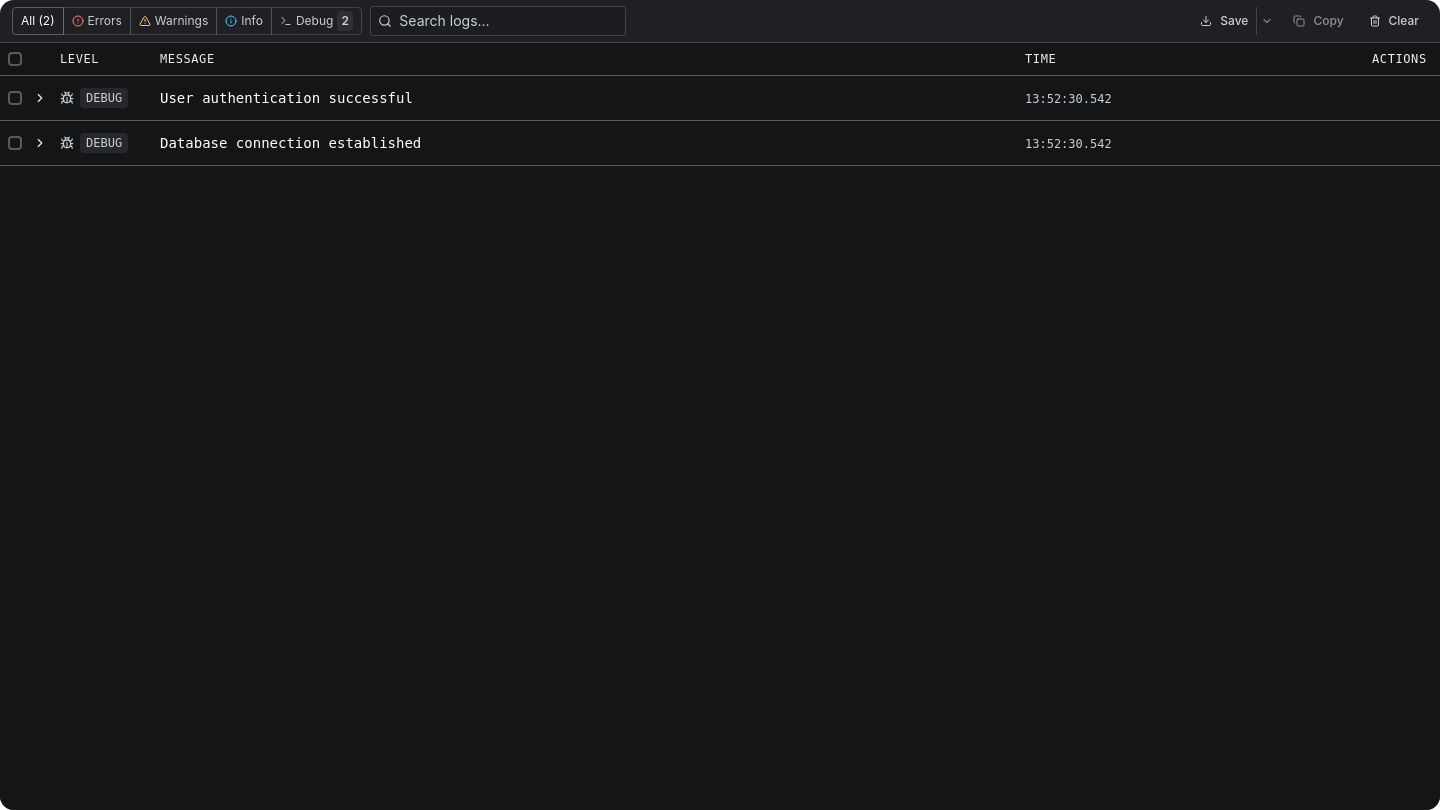
Scenario: ConsolePanel › filters logs by full-text search in message
This screenshot has width=1440, height=810.
expect the row with test id "console-log-row-auth-log" is shown: met, box [0,76,1439,120]
# Search by message text
Type "authentication" into the field with test id "console-search-input" at (498, 21), box [370,6,626,36]
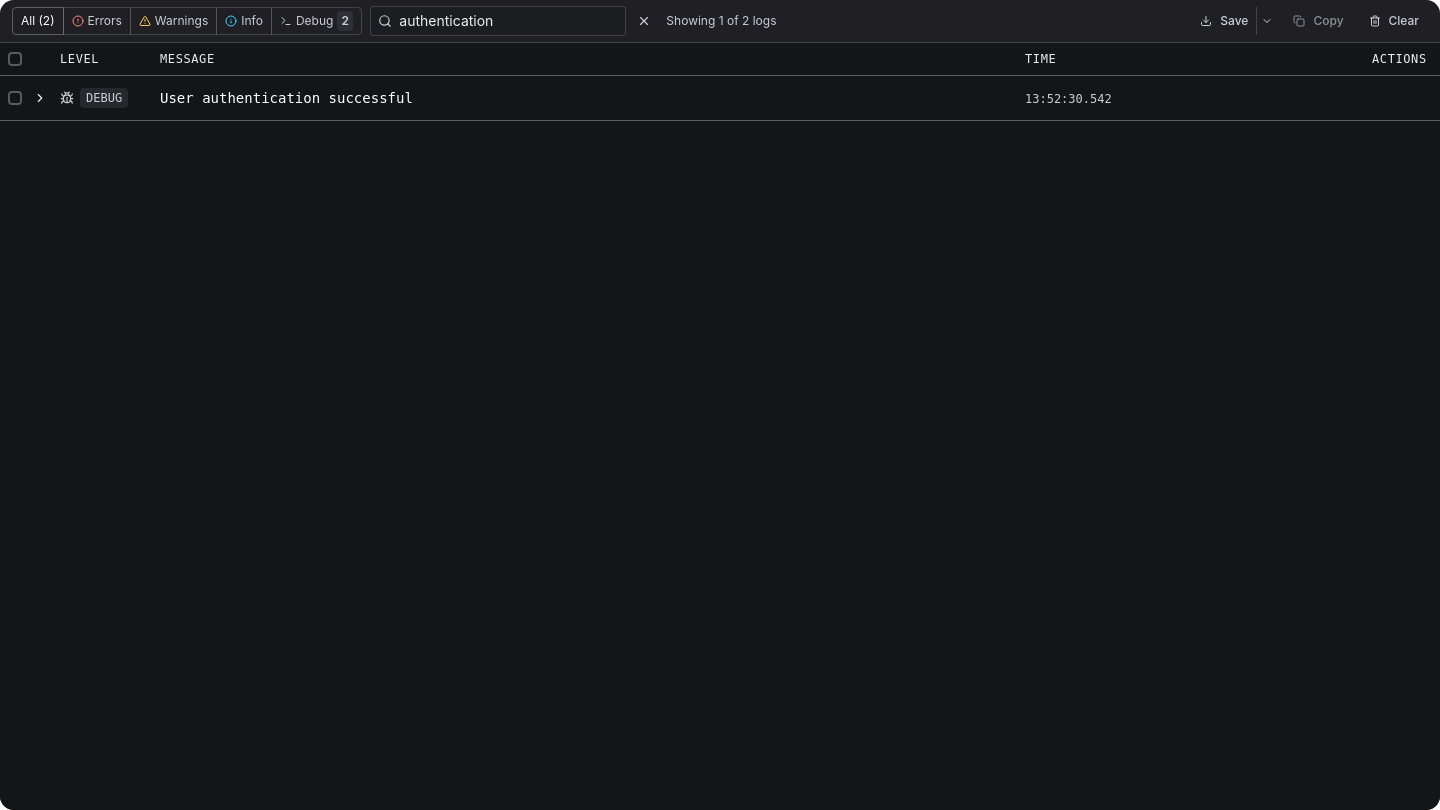
expect the row with test id "console-log-row-auth-log" is shown: met, box [0,76,1439,120]
expect the row with test id "console-log-row-db-log" is gone: met
